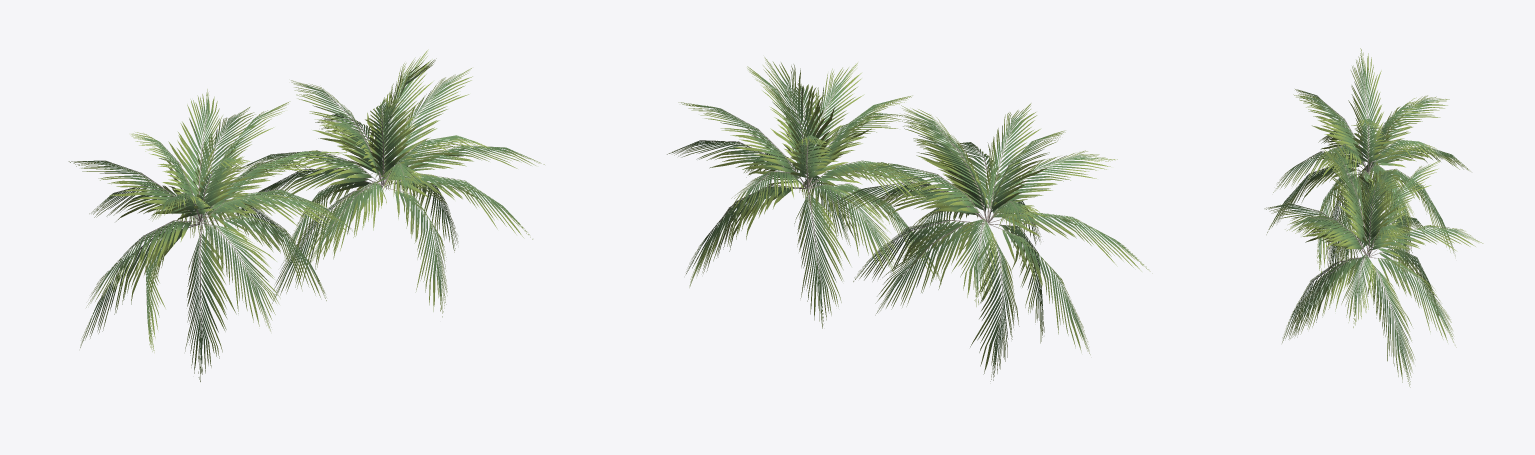
The model's file is m_palm_p2_17_leaf_0_lev2.glb.
The picture shows the model from 3 angles, left to right: view 1: azimuth 30°, elevation 25°; view 2: azimuth 150°, elevation 25°; view 3: azimuth 270°, elevation 25°; orthographic projection. The views are drawn at different scales.
Parts seen in each view (by area): view 1: m_palm_p2_17_leaf_0_lev2; view 2: m_palm_p2_17_leaf_0_lev2; view 3: m_palm_p2_17_leaf_0_lev2.
Part boxes in pixels (bbox=[...]): m_palm_p2_17_leaf_0_lev2: bbox=[68, 49, 544, 381]; m_palm_p2_17_leaf_0_lev2: bbox=[667, 57, 1152, 381]; m_palm_p2_17_leaf_0_lev2: bbox=[1264, 48, 1483, 387].
Bounding box in the file's own units: 6 × 3.39 × 3.2.
1 material, 1 textured.
